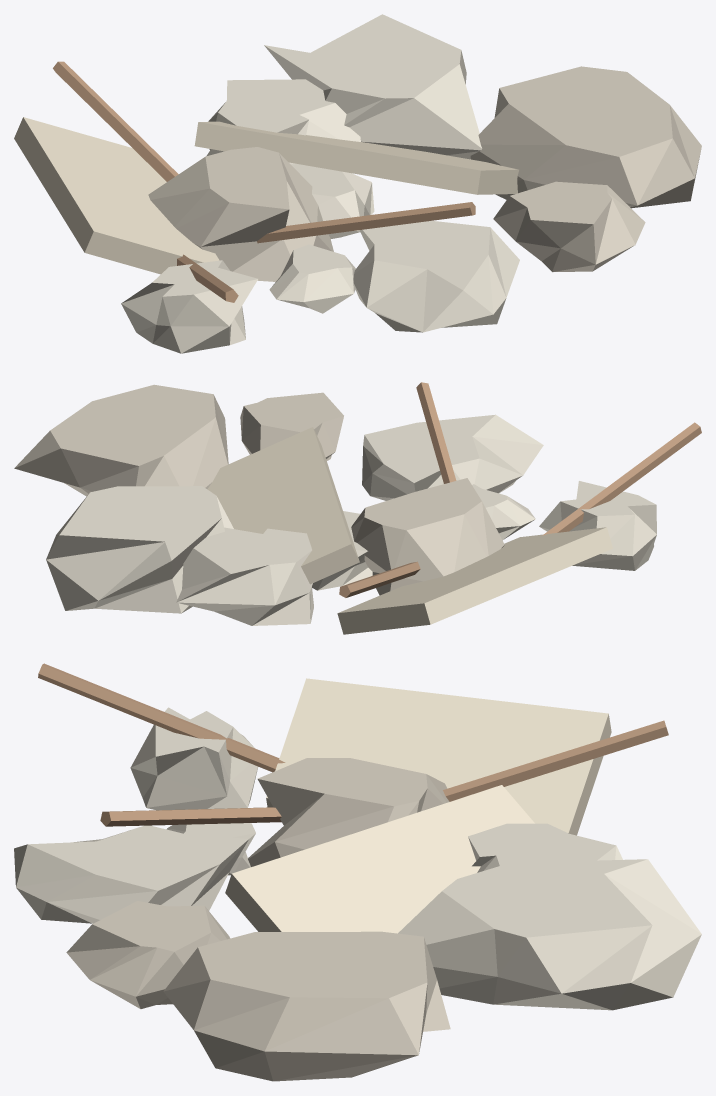
Rendered from lab_debris_cluster_a.glb.
3 views of the same model, one above another, from view 1: azimuth 30°, elevation 25°; view 2: azimuth 150°, elevation 25°; view 3: azimuth 270°, elevation 25° (orthographic). The views are drawn at different scales.
Parts seen in each view (by area): view 1: lab_debris_cluster_a; view 2: lab_debris_cluster_a; view 3: lab_debris_cluster_a.
Boxes of the visible parts, <box> form: lab_debris_cluster_a: <box>14,14,701,353</box>; lab_debris_cluster_a: <box>14,382,701,634</box>; lab_debris_cluster_a: <box>14,663,701,1081</box>.
Size of the model in its own units: 1.7 by 0.2665 by 1.5.
